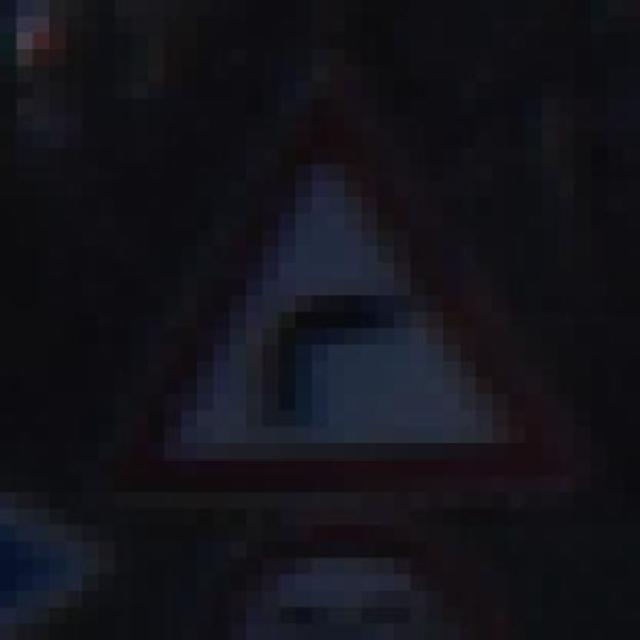Dangerous Rright Curve Ahead: (82, 98, 590, 510)
